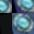mirror: (14, 0, 34, 13), (0, 0, 12, 13)
